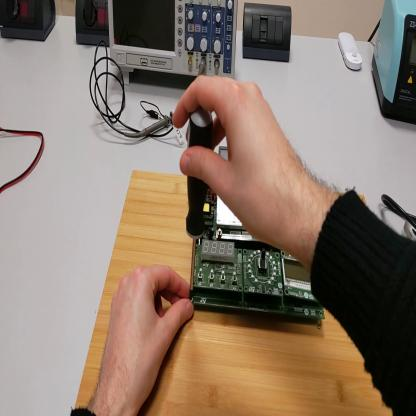hand: (173, 73, 300, 250), (89, 265, 194, 412)
low voltage board: (191, 147, 326, 329)
oscilloscope: (109, 1, 239, 87)
oscilloscope probe tip: (124, 114, 175, 142)
pliers: (406, 220, 416, 244)
screwdriver-: (186, 109, 215, 302)
socket: (2, 2, 58, 44), (77, 2, 113, 49)
welder station: (371, 1, 416, 125)
working area: (76, 171, 393, 416)
